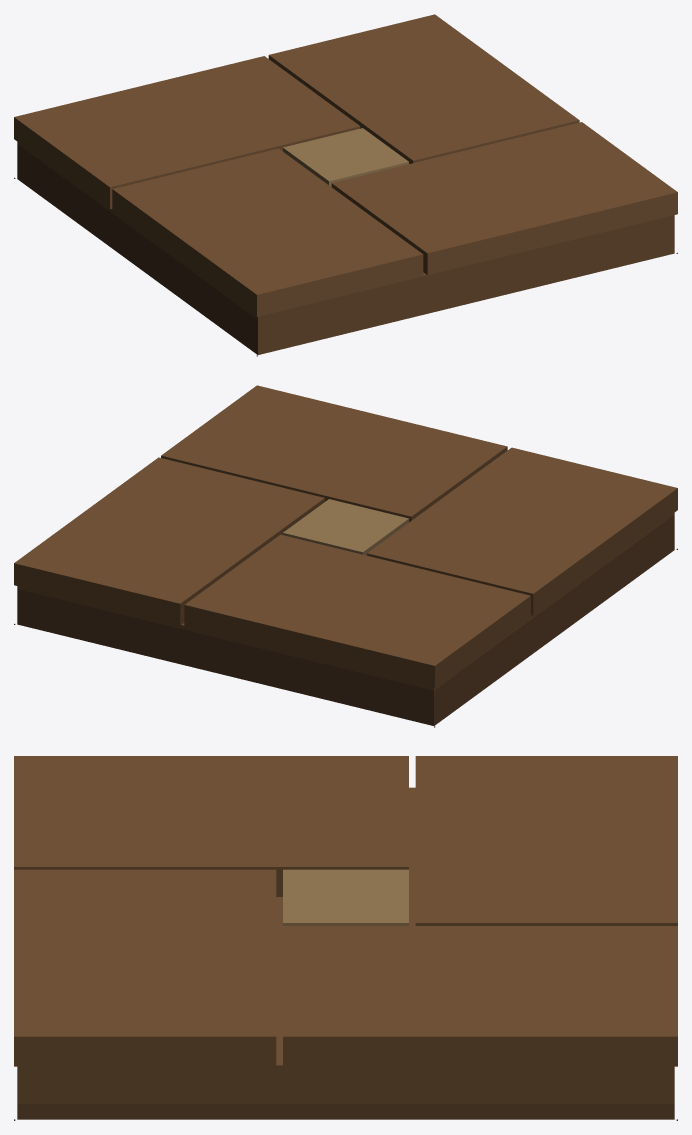
Rendered from floor_wood_cross.glb.
3 views of the same model, one above another, from view 1: azimuth 30°, elevation 25°; view 2: azimuth 150°, elevation 25°; view 3: azimuth 270°, elevation 25° (orthographic). The views are drawn at different scales.
Bounding box in the file's own units: 1 × 0.14 × 1.
1 material, 1 textured.
